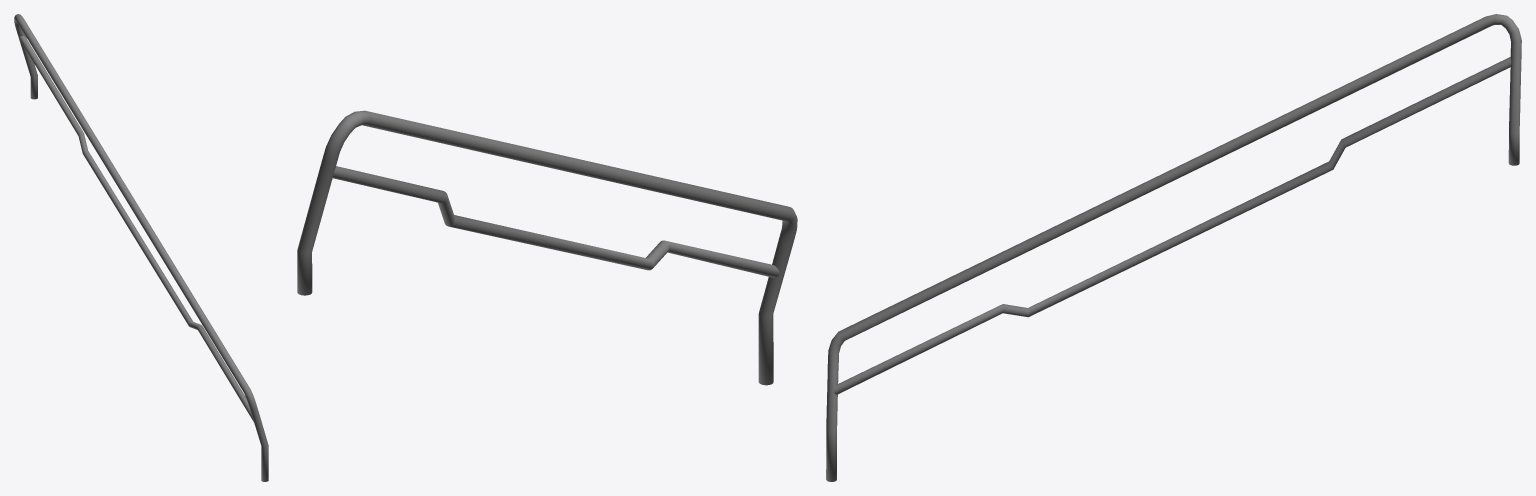
The model's file is q-scifi-mod-prop-rail-incline-long-l.glb.
3 renders of one model, left to right at view 1: azimuth 30°, elevation 25°; view 2: azimuth 150°, elevation 25°; view 3: azimuth 270°, elevation 25°, orthographic. The views are drawn at different scales.
Visible parts, largest first — view 1: Prop_Rail_Incline_Long_L; view 2: Prop_Rail_Incline_Long_L; view 3: Prop_Rail_Incline_Long_L.
Part boxes in pixels (x1=…): Prop_Rail_Incline_Long_L: x1=14, y1=14, x2=268, y2=481; Prop_Rail_Incline_Long_L: x1=297, y1=110, x2=797, y2=385; Prop_Rail_Incline_Long_L: x1=826, y1=14, x2=1521, y2=481.
Bounding box in the file's own units: 0.2545 × 2.72 × 3.8.
1 material, 1 textured.
